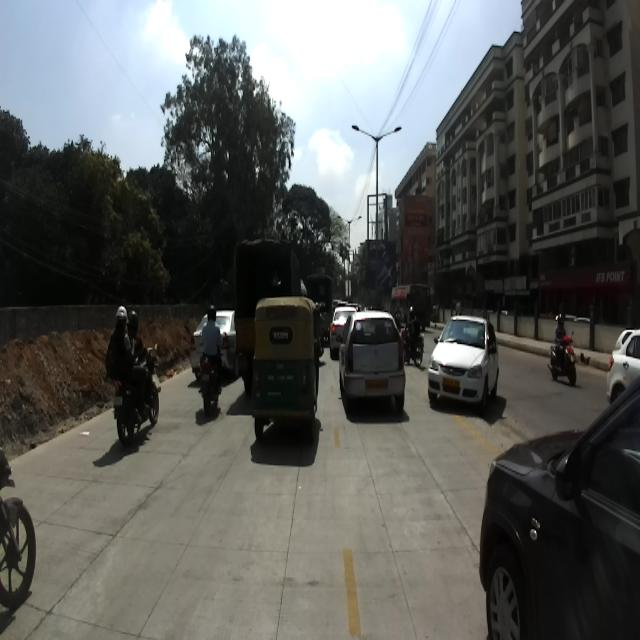auto ahead at: (250, 297, 315, 434)
car ahead at: (340, 308, 408, 416), (428, 308, 499, 406)
motorcycle ahead at: (108, 378, 160, 446), (197, 361, 224, 414)
